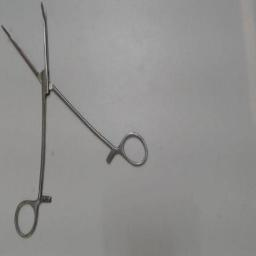Lahey Forceps: (0, 0, 154, 244)
